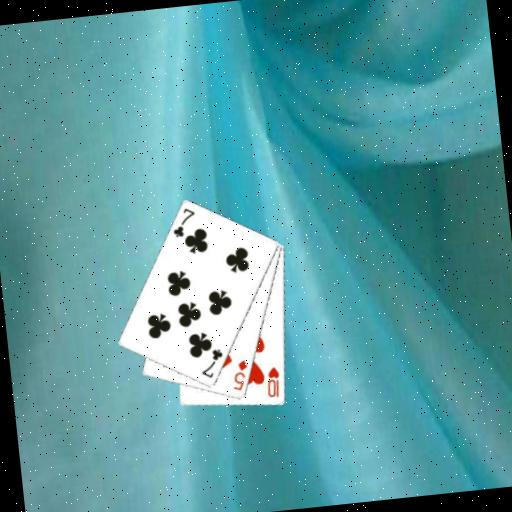10H: (263, 364, 284, 401)
5D: (228, 357, 252, 393)
7C: (168, 205, 199, 240), (197, 345, 227, 380)
